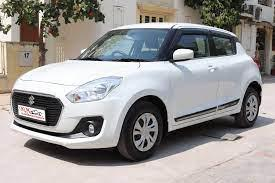Hatchback: (7, 22, 268, 160)
